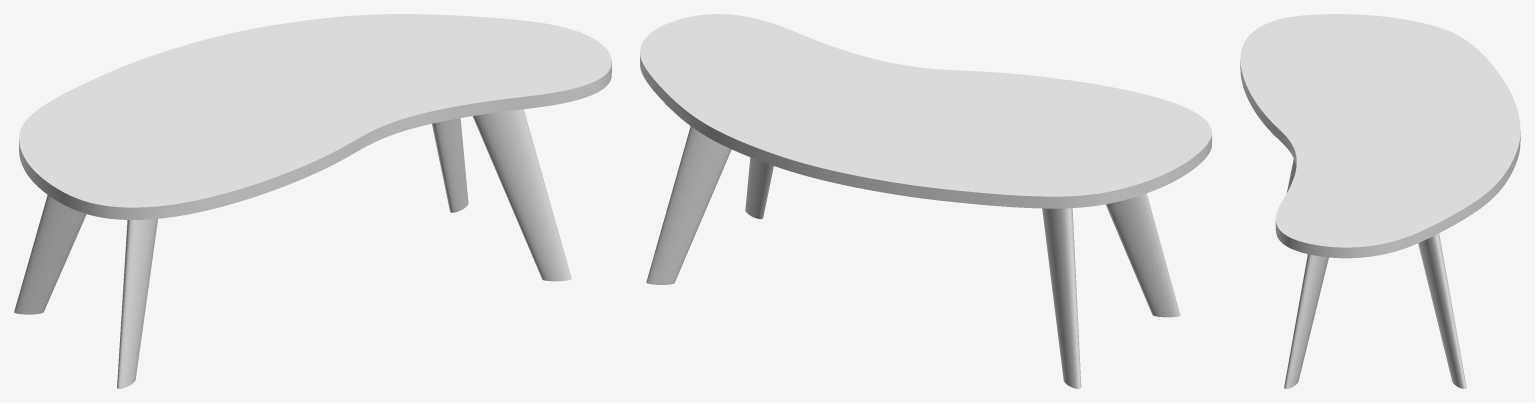
The model's file is purewhite_leaf1_standard_ferdinantwalnut.glb.
The picture shows the model from 3 angles, left to right: view 1: azimuth 30°, elevation 25°; view 2: azimuth 150°, elevation 25°; view 3: azimuth 270°, elevation 25°; orthographic projection. The views are drawn at different scales.
Visible parts, largest first — view 1: standard_leaf1, ferdinandwalnut; view 2: standard_leaf1, ferdinandwalnut; view 3: standard_leaf1, ferdinandwalnut.
Boxes of the visible parts, x1=… form: standard_leaf1: x1=19, y1=14, x2=611, y2=219; ferdinandwalnut: x1=14, y1=109, x2=571, y2=388; standard_leaf1: x1=640, y1=14, x2=1211, y2=208; ferdinandwalnut: x1=646, y1=126, x2=1180, y2=388; standard_leaf1: x1=1240, y1=14, x2=1520, y2=258; ferdinandwalnut: x1=1284, y1=159, x2=1466, y2=388.
Bounding box in the file's own units: 7.5 × 2.51 × 3.8.
Materials: 1 (1 with a texture image).
